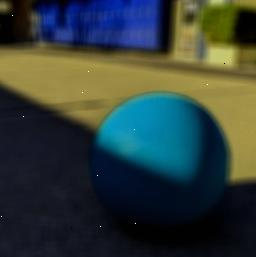algae: (92, 92, 232, 235)
